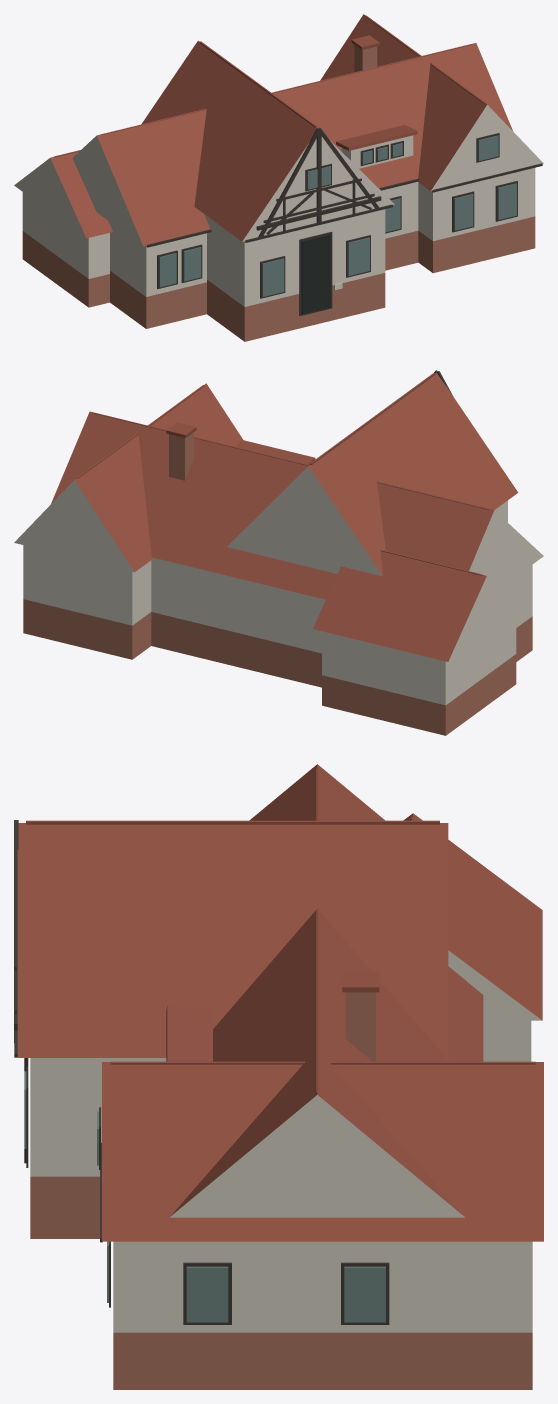
File: house-315-identity.glb
The picture shows the model from 3 angles, top to bottom: view 1: azimuth 30°, elevation 25°; view 2: azimuth 150°, elevation 25°; view 3: azimuth 270°, elevation 25°; orthographic projection. The views are drawn at different scales.
Parts seen in each view (by area): view 1: house-315-identity; view 2: house-315-identity; view 3: house-315-identity.
Boxes of the visible parts, box(x1,y1,x2,y2) form: house-315-identity: box(14, 14, 543, 341); house-315-identity: box(14, 370, 543, 735); house-315-identity: box(14, 764, 543, 1389).
Bounding box in the file's own units: 14.9 × 6.98 × 9.41.
